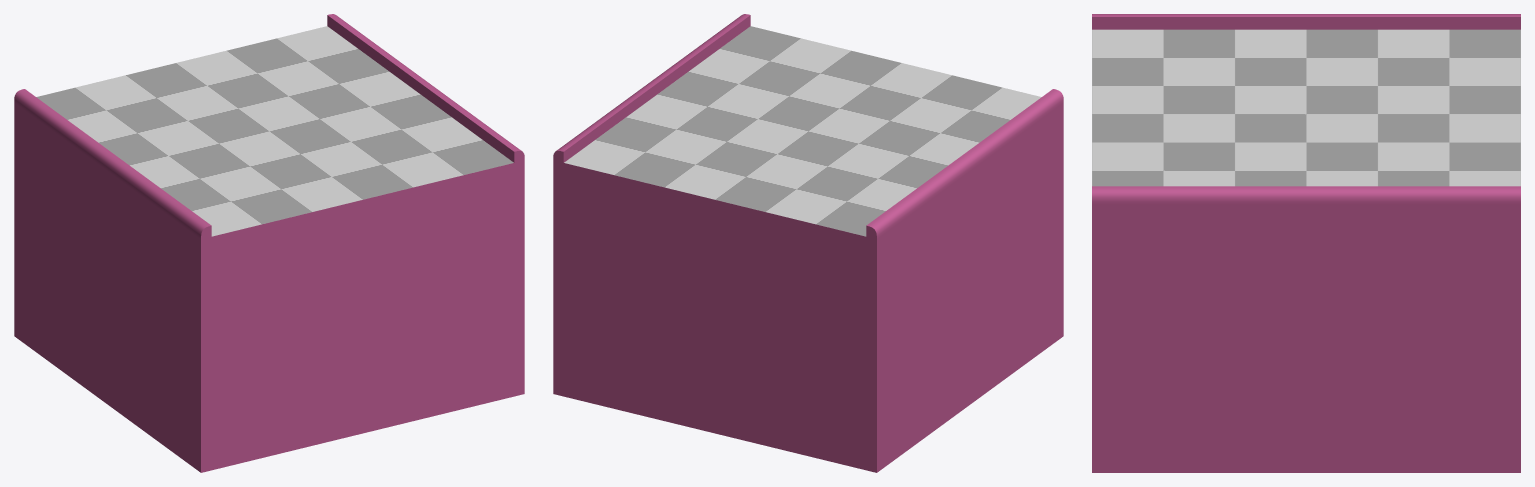
The model's file is Platform.fbx.
3 renders of one model, left to right at view 1: azimuth 30°, elevation 25°; view 2: azimuth 150°, elevation 25°; view 3: azimuth 270°, elevation 25°, orthographic. The views are drawn at different scales.
Visible parts, largest first — view 1: Platform; view 2: Platform; view 3: Platform.
Part boxes in pixels (x1,y1,x2,y2): Platform: (14, 14, 524, 472); Platform: (553, 14, 1063, 472); Platform: (1092, 14, 1520, 472).
Size of the model in its own units: 218 by 157 by 218.
